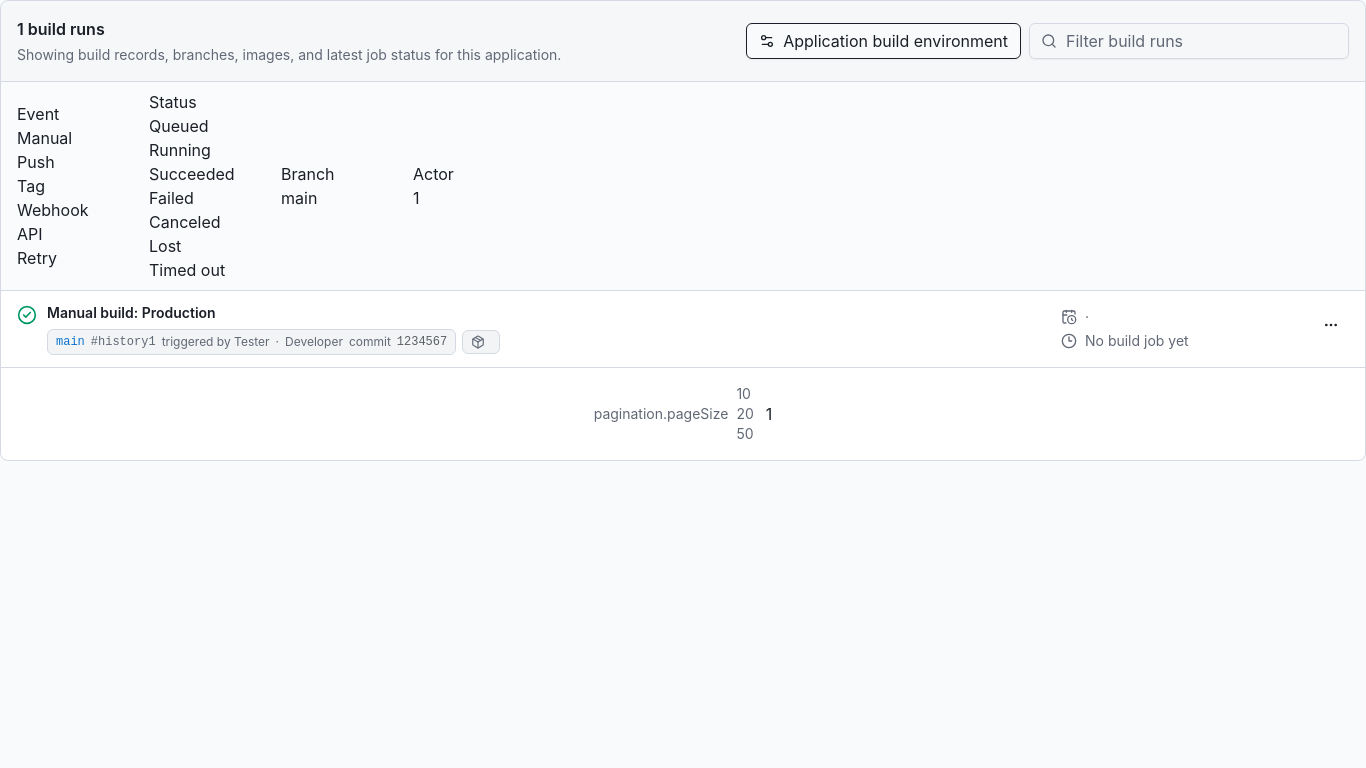
Test: application builds panel › does not attribute an old build to a replacement repository binding
The image size is (1366, 768).
Expected: the heading "1 build runs" is shown, [17, 19, 105, 39]
What coordinates should you click on to do the following:
click the button named "Build run actions"
I would click on:
 (1331, 325)
Its box is [1313, 307, 1349, 343].
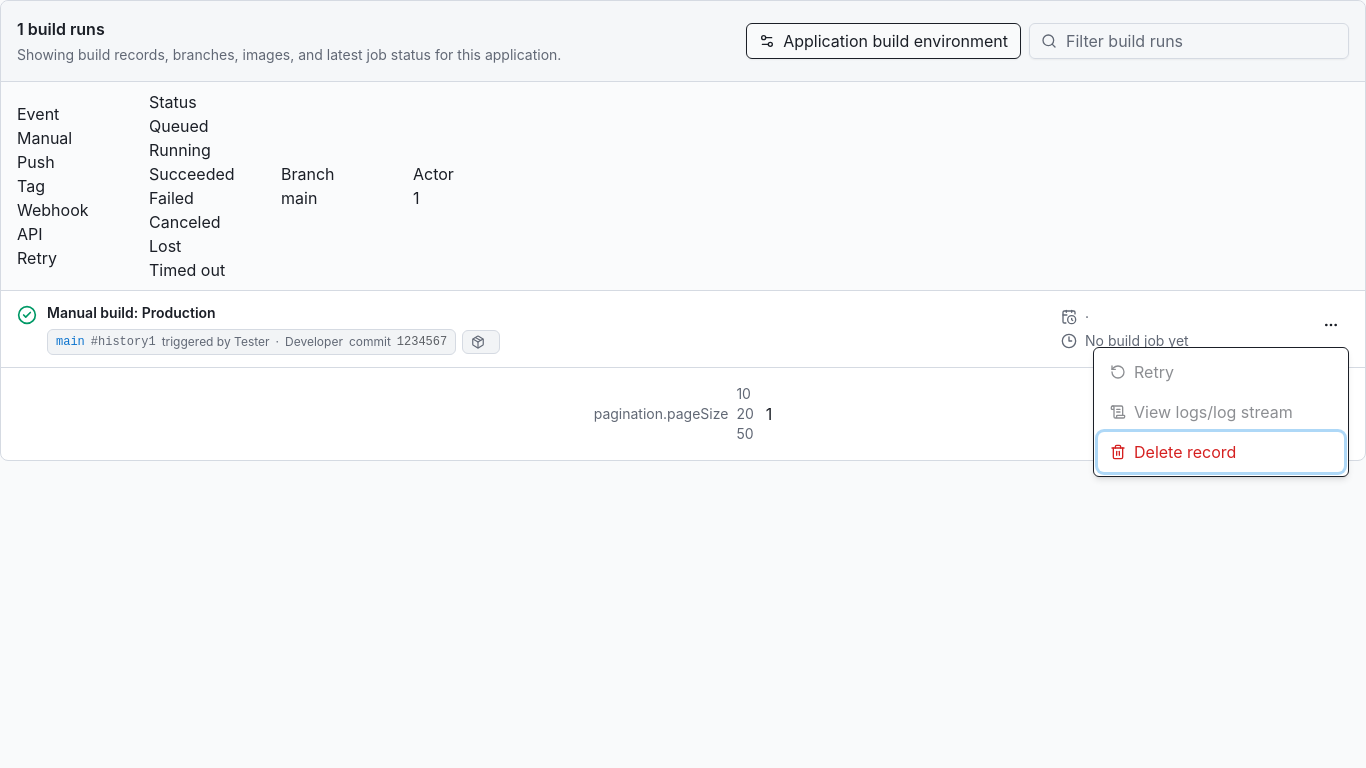
Expected: the button "Retry" is disabled, [1098, 352, 1344, 392]
